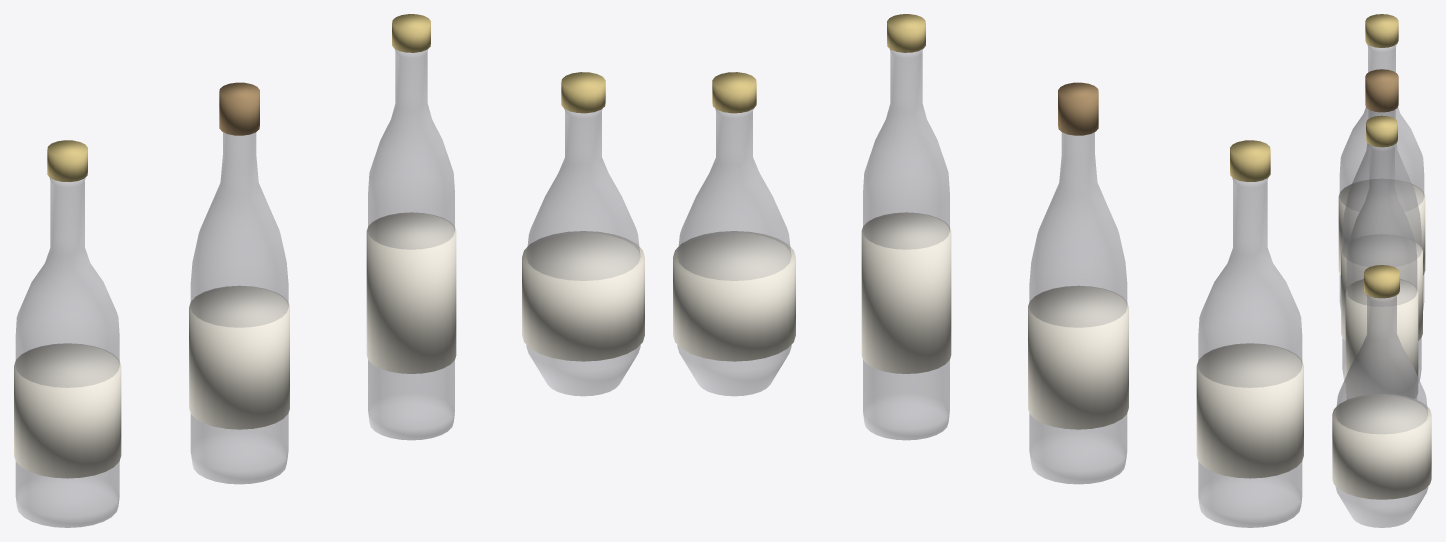
The model's file is bottles.glb.
3 renders of one model, left to right at view 1: azimuth 30°, elevation 25°; view 2: azimuth 150°, elevation 25°; view 3: azimuth 270°, elevation 25°, orthographic. The views are drawn at different scales.
Parts seen in each view (by area): view 1: bottleWhisky, bottleWine, bottleGin, bottleLiqueur, lbLiqueur, lbGin, lbWine, lbWhisky, capWine, capLiqueur, capWhisky, capGin; view 2: bottleWhisky, bottleWine, bottleGin, bottleLiqueur, lbLiqueur, lbGin, lbWine, lbWhisky, capWine, capLiqueur, capWhisky, capGin; view 3: bottleLiqueur, lbLiqueur, lbGin, bottleGin, bottleWine, lbWhisky, bottleWhisky, lbWine, capWine, capLiqueur, capWhisky, capGin.
Part boxes in pixels (left/top/right/bottom): bottleWhisky: left=15, top=178, right=119, bottom=527; bottleWine: left=190, top=132, right=288, bottom=484; bottleGin: left=368, top=49, right=454, bottom=440; bottleLiqueur: left=526, top=109, right=640, bottom=396; lbLiqueur: left=522, top=231, right=644, bottom=361; lbGin: left=366, top=212, right=456, bottom=373; lbWine: left=189, top=286, right=289, bottom=429; lbWhisky: left=14, top=343, right=121, bottom=478; capWine: left=219, top=82, right=259, bottom=135; capLiqueur: left=561, top=72, right=605, bottom=113; capWhisky: left=47, top=140, right=87, bottom=181; capGin: left=392, top=14, right=430, bottom=52; bottleWhisky: left=1198, top=178, right=1302, bottom=527; bottleWine: left=1029, top=132, right=1127, bottom=484; bottleGin: left=863, top=49, right=949, bottom=440; bottleLiqueur: left=677, top=109, right=791, bottom=396; lbLiqueur: left=673, top=231, right=795, bottom=361; lbGin: left=861, top=212, right=951, bottom=373; lbWine: left=1028, top=286, right=1128, bottom=429; lbWhisky: left=1196, top=343, right=1303, bottom=478; capWine: left=1058, top=82, right=1098, bottom=135; capLiqueur: left=712, top=72, right=756, bottom=113; capWhisky: left=1230, top=140, right=1270, bottom=181; capGin: left=887, top=14, right=925, bottom=52; bottleLiqueur: left=1335, top=295, right=1428, bottom=527; lbLiqueur: left=1332, top=394, right=1431, bottom=499; lbGin: left=1345, top=279, right=1418, bottom=398; bottleGin: left=1346, top=144, right=1417, bottom=399; bottleWine: left=1342, top=109, right=1421, bottom=382; lbWhisky: left=1338, top=179, right=1425, bottom=275; bottleWhisky: left=1339, top=44, right=1424, bottom=310; lbWine: left=1341, top=234, right=1422, bottom=340; capWine: left=1365, top=69, right=1398, bottom=112; capLiqueur: left=1364, top=265, right=1399, bottom=298; capWhisky: left=1365, top=14, right=1398, bottom=47; capGin: left=1366, top=115, right=1397, bottom=147.
Size of the model in its own units: 0.5727 by 0.356 by 0.099.
